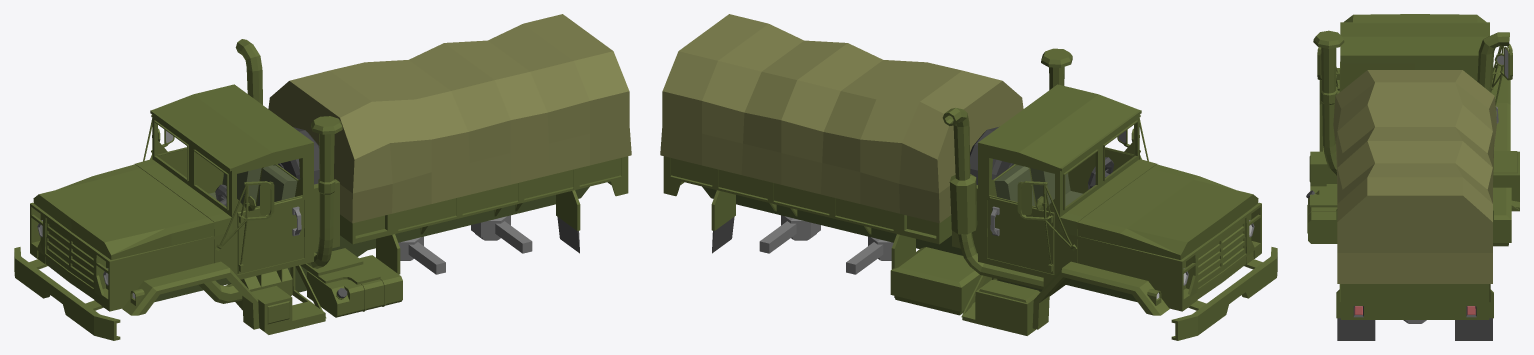
File: truck2.glb
3 renders of one model, left to right at view 1: azimuth 30°, elevation 25°; view 2: azimuth 150°, elevation 25°; view 3: azimuth 270°, elevation 25°, orthographic. The views are drawn at different scales.
Visible parts, largest first — view 1: Main; view 2: Main; view 3: Main.
Part boxes in pixels (x1,y1,x2,y2): Main: (14,14,631,340); Main: (660,14,1277,340); Main: (1306,14,1519,340).
Size of the model in its own units: 7.26 by 2.7 by 2.67.
